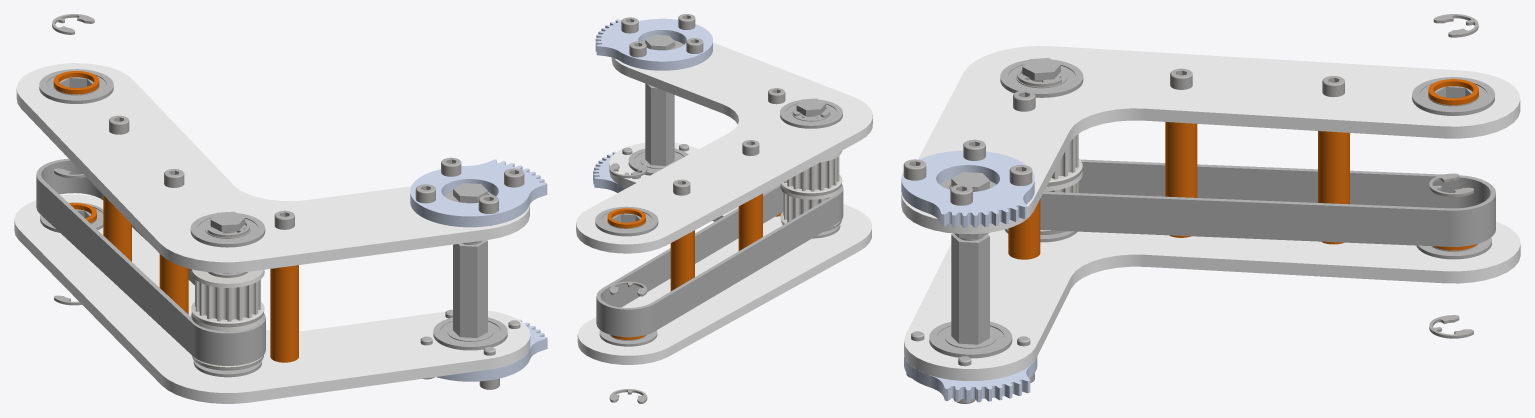
The picture shows the model from 3 angles, left to right: view 1: azimuth 30°, elevation 25°; view 2: azimuth 150°, elevation 25°; view 3: azimuth 270°, elevation 25°; orthographic projection. The views are drawn at different scales.
Parts seen in each view (by area): view 1: Solid1 (×17); view 2: Solid1 (×21); view 3: Solid1 (×17).
Part boxes in pixels (x1,y1,x2,y2): Solid1 (×17): [14, 63, 547, 403]; Solid1 (×21): [576, 17, 872, 403]; Solid1 (×17): [901, 14, 1520, 402].
Size of the model in its own units: 0.1651 by 0.1256 by 0.232.
